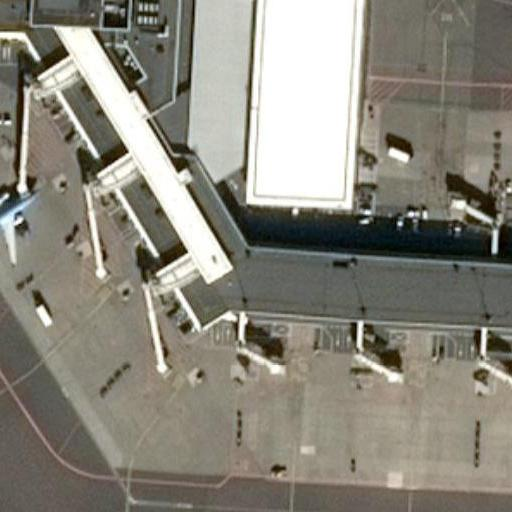Aircraft: (0, 169, 41, 265)
